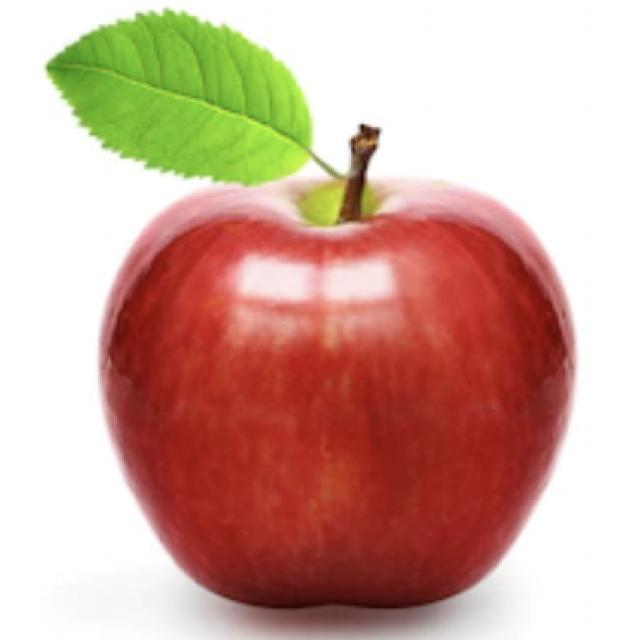Fresh Apple: (83, 172, 575, 616)
